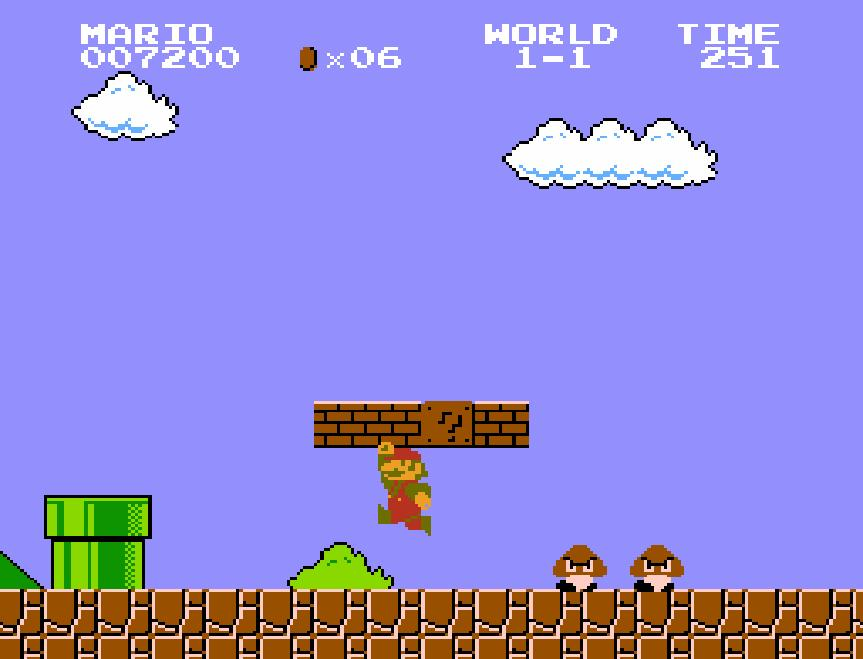big_mario: (376, 440, 434, 538)
